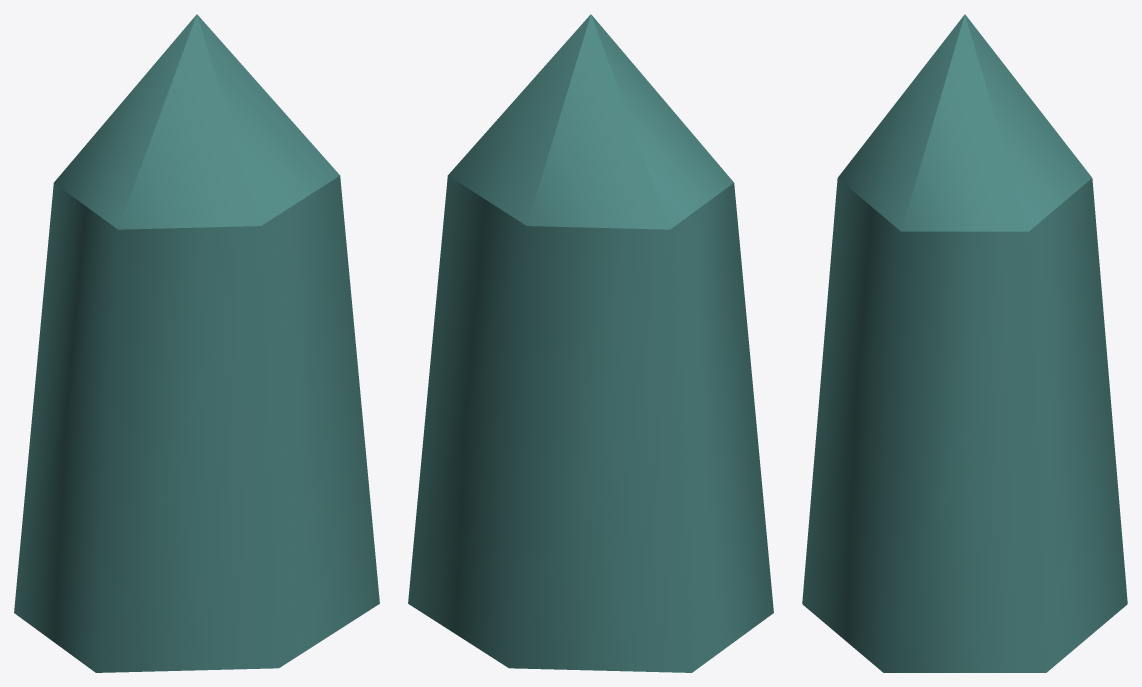
Rendered from wp-cristal-magique.glb.
The picture shows the model from 3 angles, left to right: view 1: azimuth 30°, elevation 25°; view 2: azimuth 150°, elevation 25°; view 3: azimuth 270°, elevation 25°; orthographic projection.
Visible parts, largest first — view 1: wp-cristal-magique; view 2: wp-cristal-magique; view 3: wp-cristal-magique.
Part boxes in pixels (x1,y1,x2,y2): wp-cristal-magique: (14,14,379,672); wp-cristal-magique: (408,14,773,672); wp-cristal-magique: (802,14,1127,672).
Bounding box in the file's own units: 0.25 × 0.5 × 0.25.
